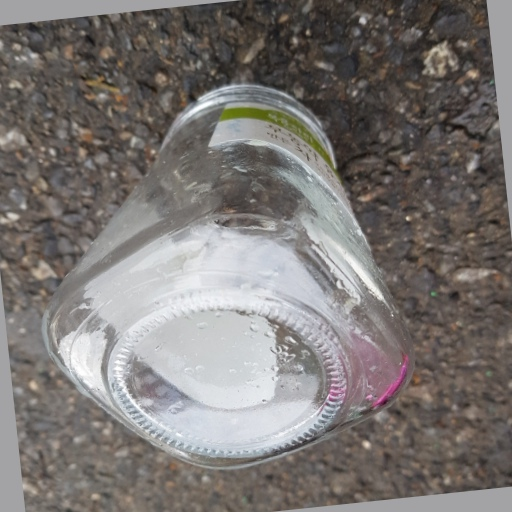Glass_5: (39, 86, 415, 471)
